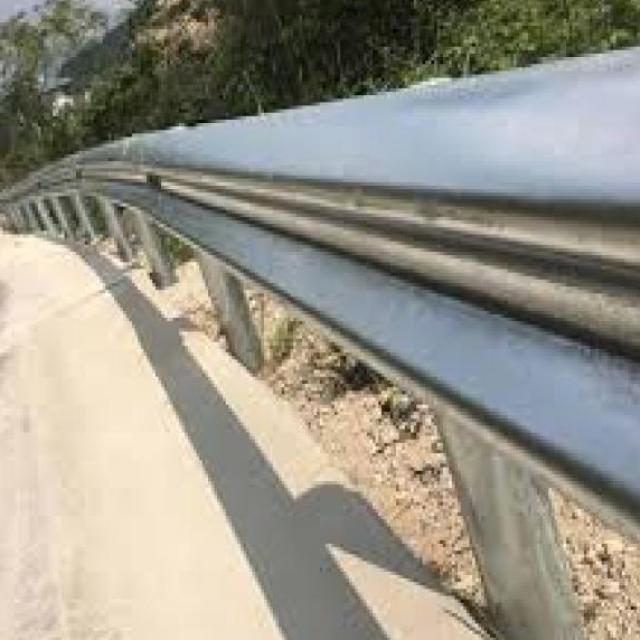Guard rail: (14, 48, 640, 503)
